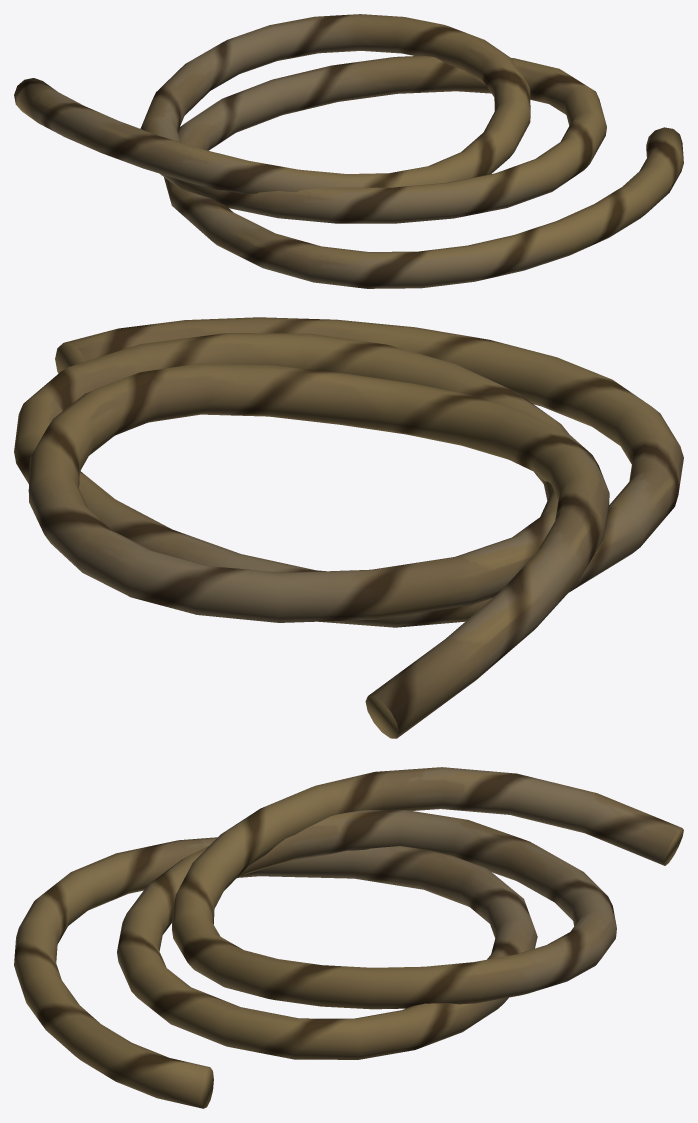
Rendered from rope-2.glb.
The picture shows the model from 3 angles, top to bottom: view 1: azimuth 30°, elevation 25°; view 2: azimuth 150°, elevation 25°; view 3: azimuth 270°, elevation 25°; orthographic projection. The views are drawn at different scales.
Visible parts, largest first — view 1: Rope_2; view 2: Rope_2; view 3: Rope_2.
Boxes of the visible parts, <box> form: Rope_2: <box>14,14,683,288</box>; Rope_2: <box>14,317,683,738</box>; Rope_2: <box>14,767,683,1108</box>.
Size of the model in its own units: 0.8078 by 0.1236 by 0.845.
Materials: 1 (1 with a texture image).
